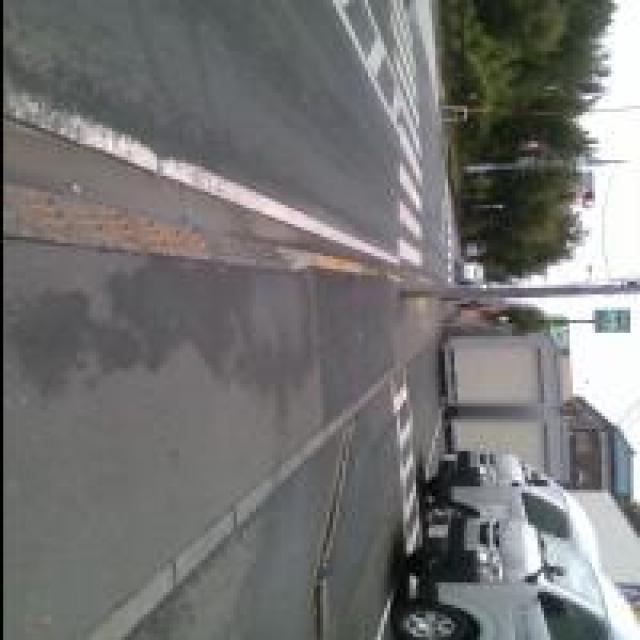Automobile: (394, 452, 639, 639)
Obstacle: (401, 278, 639, 298)
Road: (5, 0, 453, 285)
Sidewalk: (5, 240, 435, 639)
